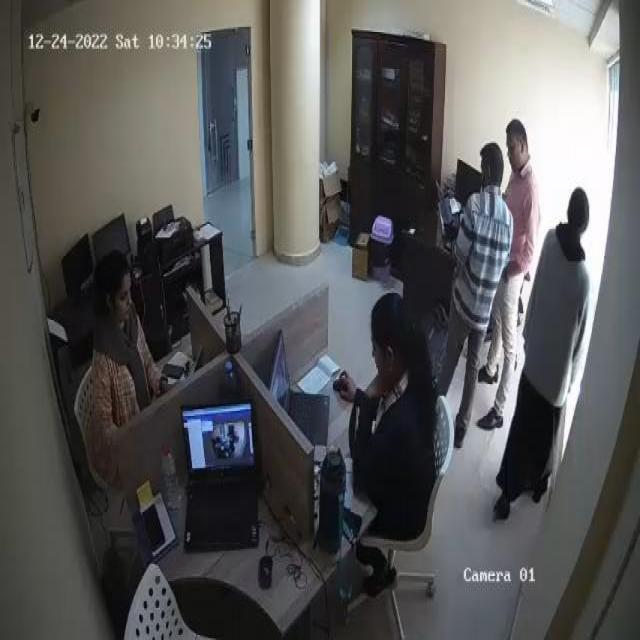bare_hand: (337, 354, 365, 413), (502, 256, 527, 283)
